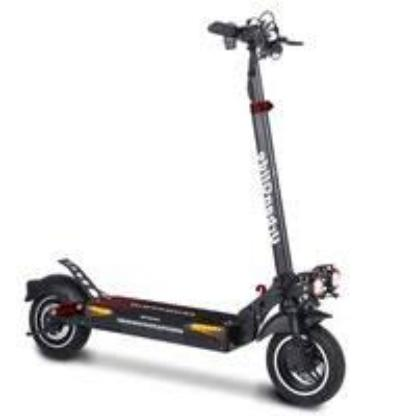bike: (24, 258, 347, 409)
car: (23, 258, 346, 408)
